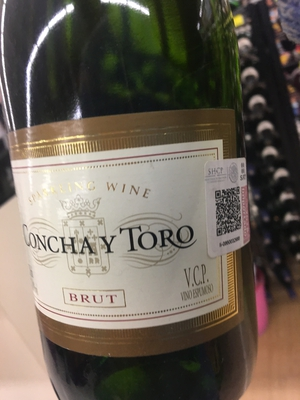brut: (1, 12, 260, 400)
